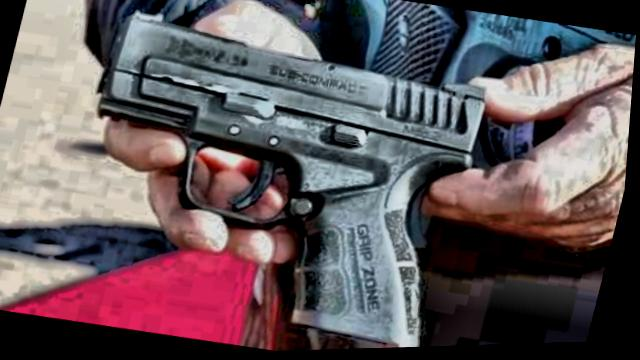pistol: (48, 0, 500, 358)
